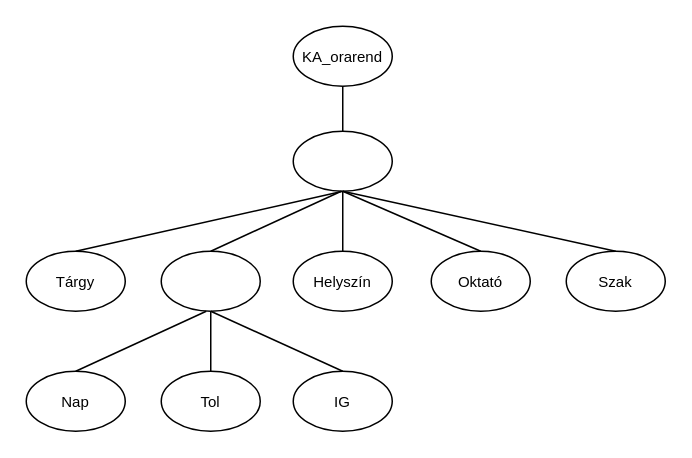
Image size: 692x458. Some labels were removed from this diagram. The shapes that lost their labels are listed below. From the top down, each one's centre as x and y in pixels, then its label:
point (342, 160): Óra
point (210, 280): Időpont
